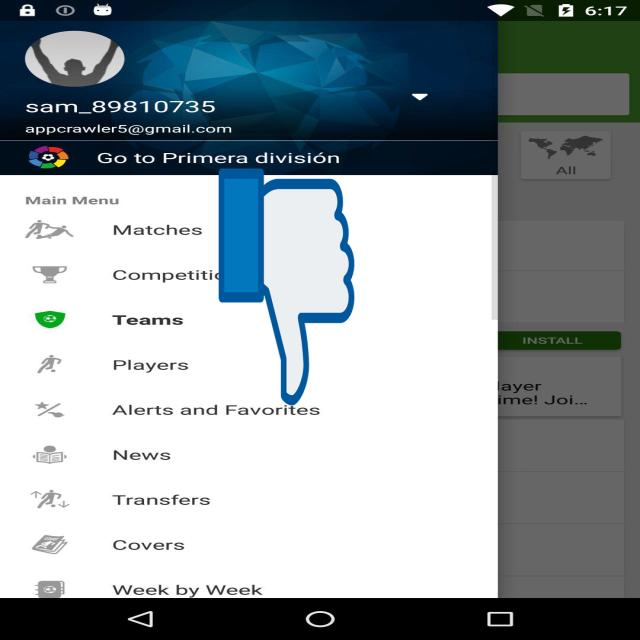obstruction: (219, 163, 354, 411)
